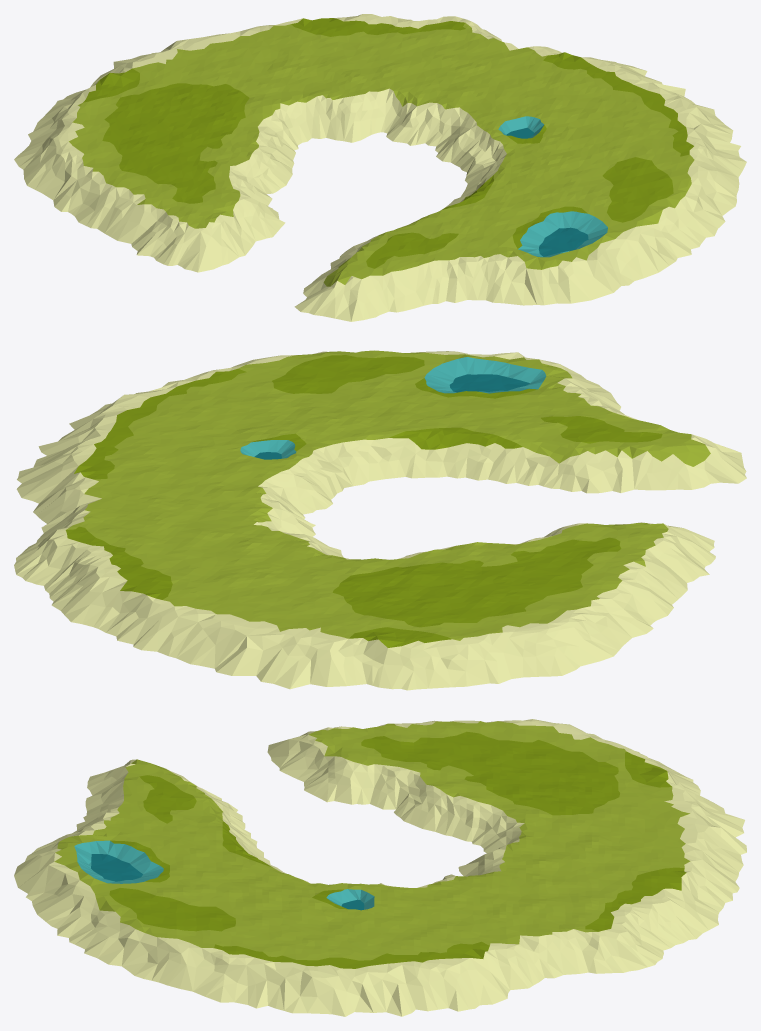
Rendered from islandhope.fbx.
The picture shows the model from 3 angles, top to bottom: view 1: azimuth 30°, elevation 25°; view 2: azimuth 150°, elevation 25°; view 3: azimuth 270°, elevation 25°; orthographic projection. The views are drawn at different scales.
Parts seen in each view (by area): view 1: CPT_Island_H_a_06_LOD0; view 2: CPT_Island_H_a_06_LOD0; view 3: CPT_Island_H_a_06_LOD0.
Boxes of the visible parts, x1,y1,x2,y2 form: CPT_Island_H_a_06_LOD0: [14, 14, 746, 321]; CPT_Island_H_a_06_LOD0: [14, 350, 746, 690]; CPT_Island_H_a_06_LOD0: [14, 719, 746, 1016].
Bounding box in the file's own units: 41231 × 1842 × 43776.
